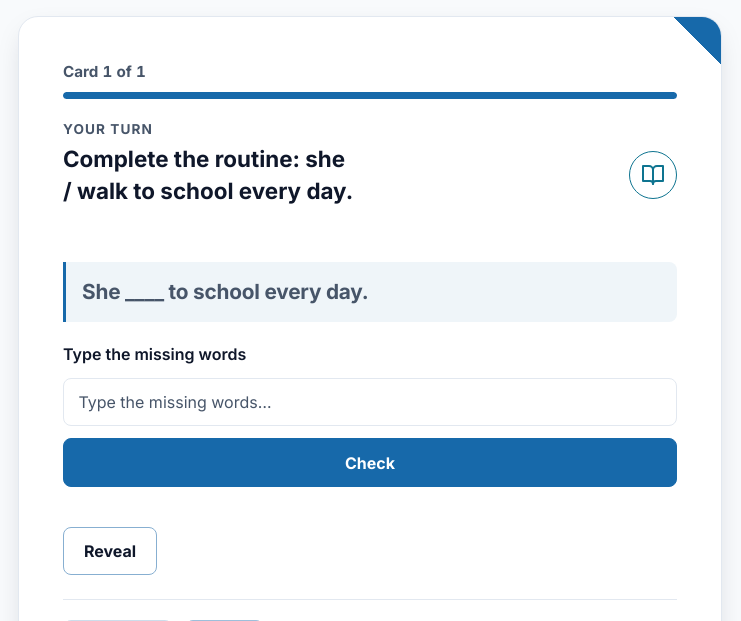
Test: VerbTensesPracticeClient › rechaza formas ajenas a Answers
The width and height of the screenshot is (741, 621).
Type "walk" into the field labelled "Type the missing words" at (370, 402), box left=63, top=378, right=677, bottom=426
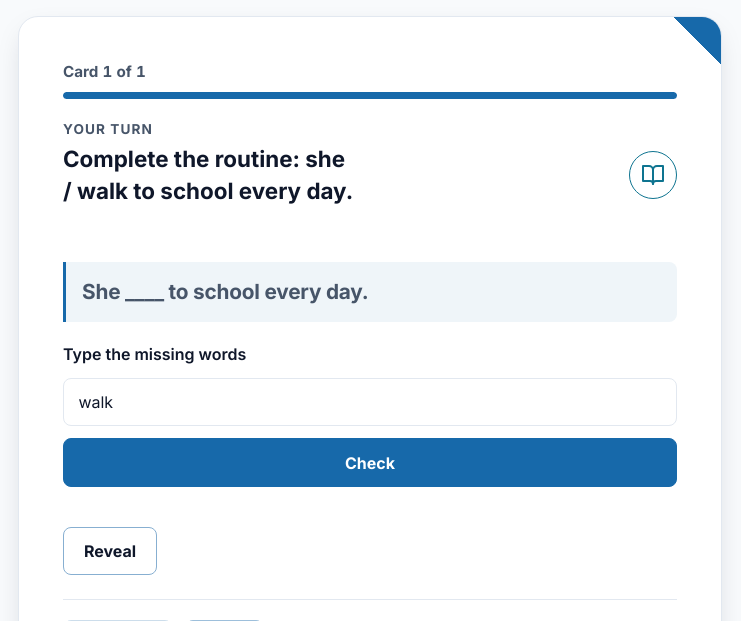
Click the button "Check" at (370, 463), box left=63, top=438, right=677, bottom=487
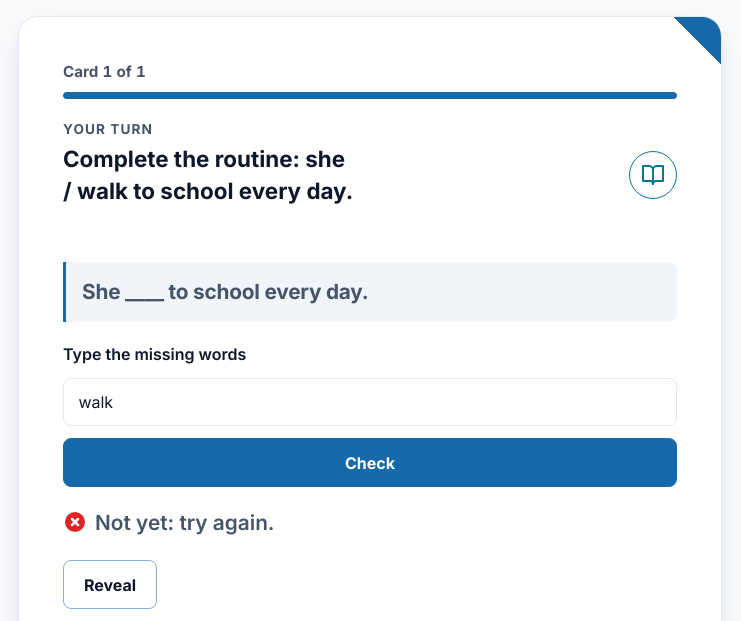
Result: the text "Not yet: try again." is shown at left=95, top=507, right=274, bottom=538
